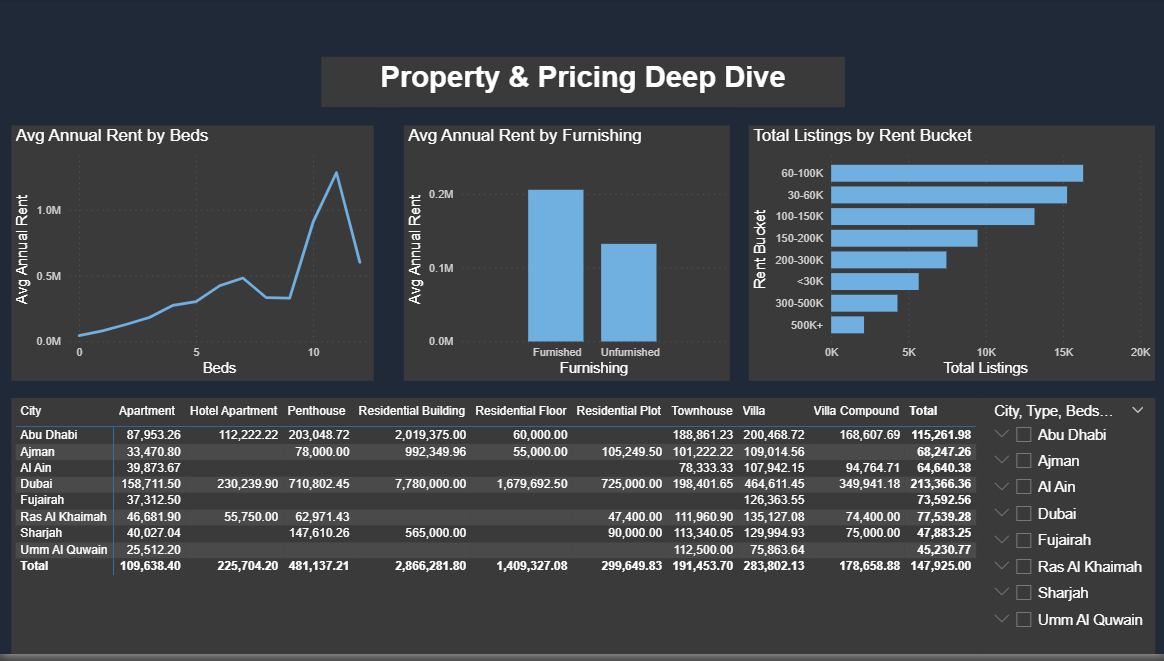

The dashboard page shown, as its layout file describes it:
{"tool":"powerbi","page":{"name":"Property & Pricing Deep Dive","canvas":[1280,720],"ordinal":2},"visuals":[{"type":"lineChart","fields":{"Category":["uae_properties_clean.Beds"],"Y":["uae_properties_clean.Avg Annual Rent"]},"box":[12.3,139.8,397.6,279.7],"z":0},{"type":"clusteredColumnChart","fields":{"Category":["uae_properties_clean.Furnishing"],"Y":["uae_properties_clean.Avg Annual Rent"]},"box":[442.8,139.8,357.8,279.7],"z":1000},{"type":"clusteredBarChart","fields":{"Category":["uae_properties_clean.Rent Bucket"],"Y":["uae_properties_clean.Total Listings"]},"box":[821.3,139.8,445.6,279.7],"z":2000},{"type":"pivotTable","fields":{"Rows":["uae_properties_clean.City"],"Columns":["uae_properties_clean.Type"],"Values":["uae_properties_clean.Avg Annual Rent"]},"box":[12.3,438.7,1065.3,281.1],"z":3000},{"type":"slicer","fields":{"Values":["uae_properties_clean.City","uae_properties_clean.Type","uae_properties_clean.Beds","uae_properties_clean.Furnishing"]},"box":[1077.6,438.7,189.2,281.1],"z":4000},{"type":"textbox","box":[352.4,64.4,574.5,54.8],"z":5000}]}

Visuals, with their boxes in screenshot pixels (x1, y1, x2, y2), scaled from the page's 1280x720 canvas onto the 1164x661 screenshot:
lineChart - uae_properties_clean.Beds x uae_properties_clean.Avg Annual Rent: 11,128,373,385
clusteredColumnChart - uae_properties_clean.Furnishing x uae_properties_clean.Avg Annual Rent: 403,128,728,385
clusteredBarChart - uae_properties_clean.Rent Bucket x uae_properties_clean.Total Listings: 747,128,1152,385
pivotTable - uae_properties_clean.City x uae_properties_clean.Type: 11,403,980,660
slicer - uae_properties_clean.City x uae_properties_clean.Type: 980,403,1152,660
textbox: 320,59,843,109
